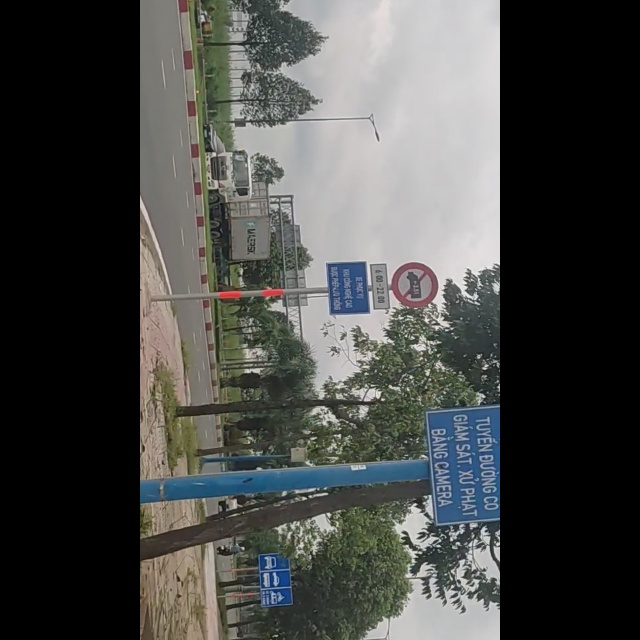bien_chi_dan: (446, 259, 531, 308)
